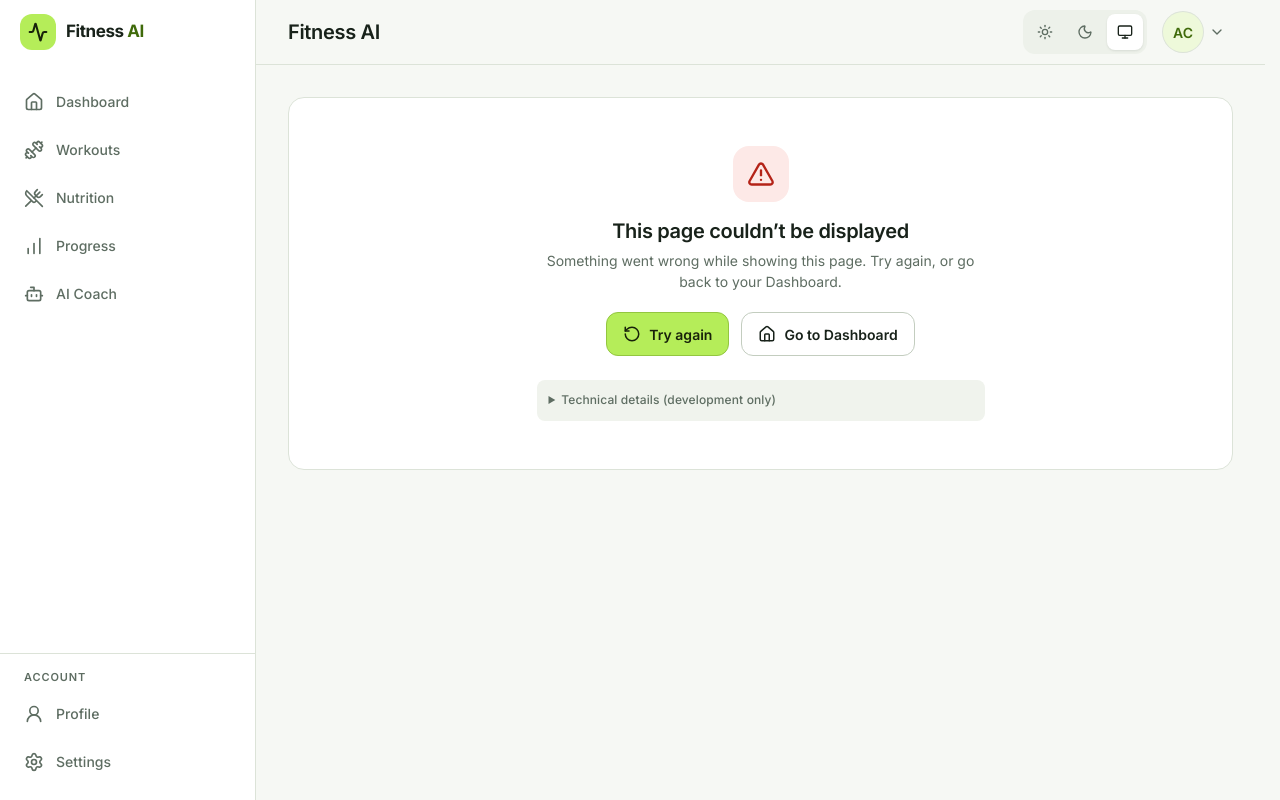
Test: route-level error isolation › "Try again" re-renders the page in place
What coordinates should you click on to do the following:
click the button "Try again"
I would click on:
 (668, 334)
Its box is [606,312,729,356].
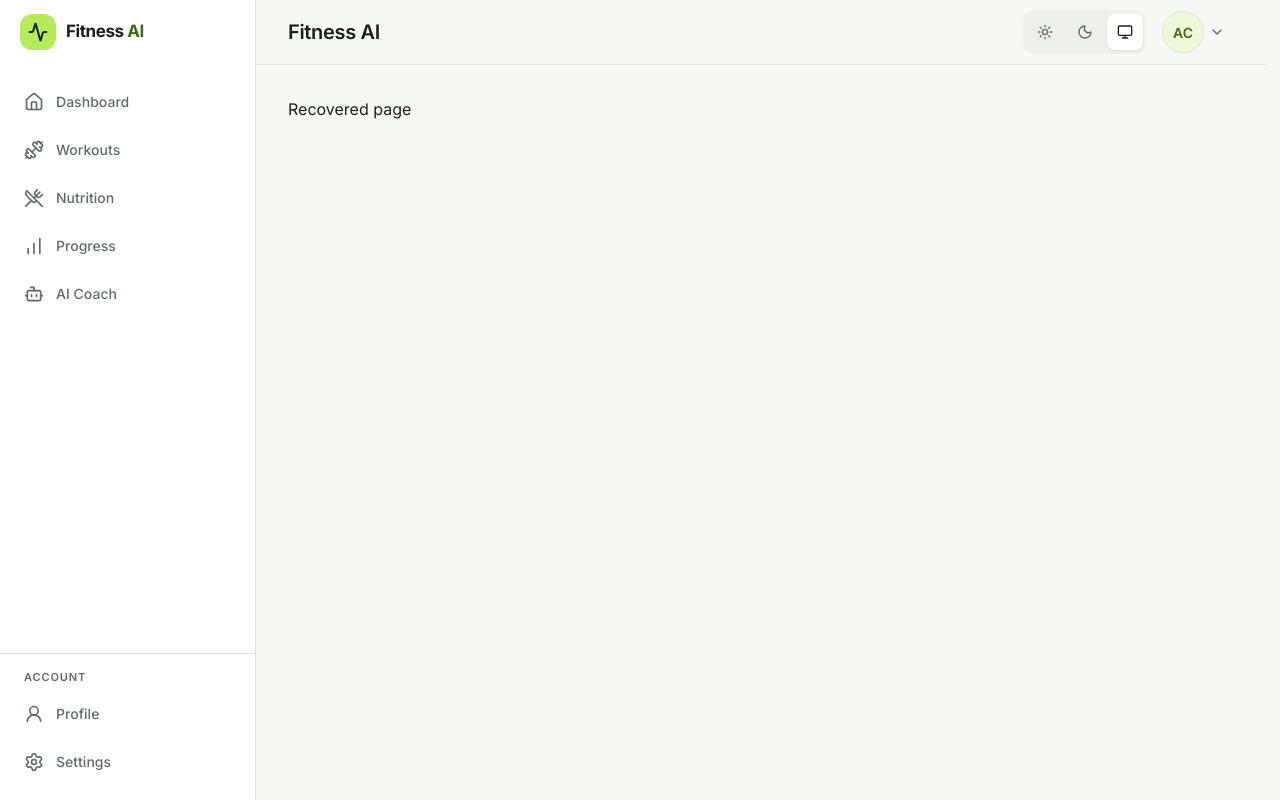
expect the heading "Recovered page" is shown: met, box [288,99,411,119]
